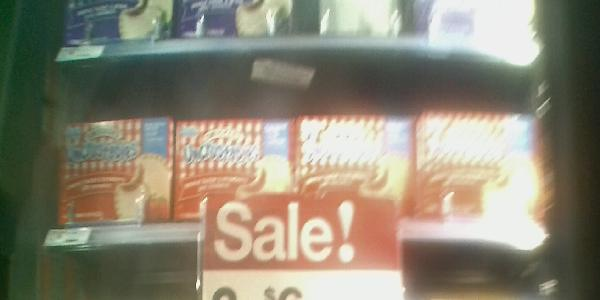icecream: (172, 108, 299, 235), (414, 108, 538, 234), (48, 113, 175, 236), (295, 112, 416, 240)
